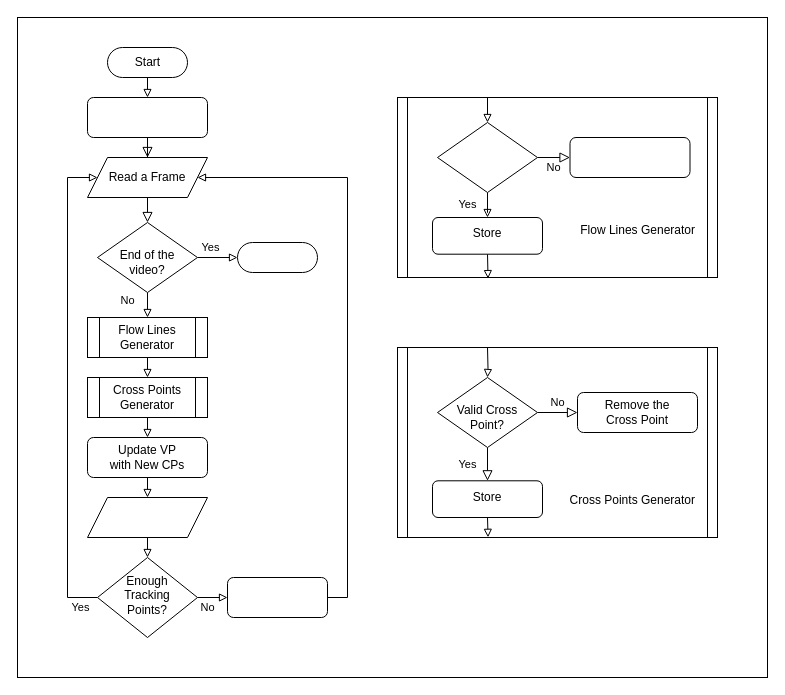
Image size: 785x695. Some labels were removed from this diagram. The shapes that lost their labels are listed below. From the top down, each one's centre as x and y in pixels, then its label:
point (147, 117): Setup Environment
point (487, 157): Valid Lines?
point (629, 157): Remove the Line
point (277, 257): Terminate
point (147, 517): Show the Frame with VP
point (277, 597): Find New Tracking Points
